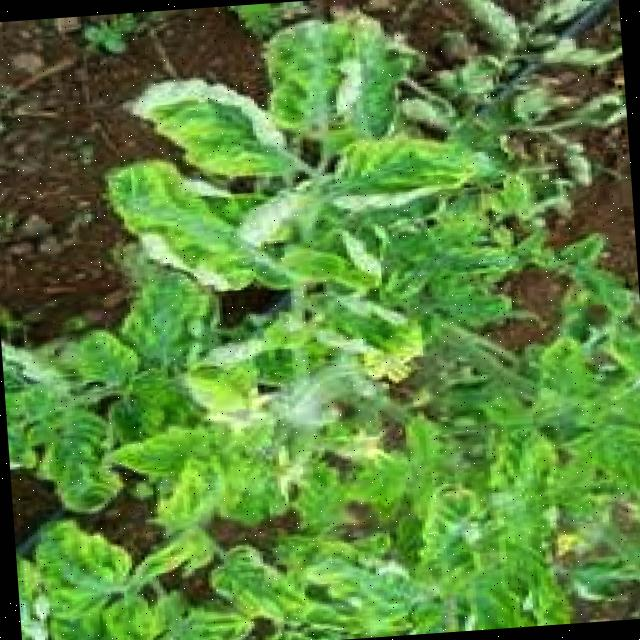leaf curl: (98, 6, 543, 367), (5, 379, 455, 640)
